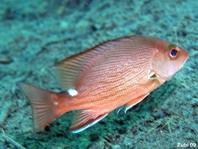Lutjanidae -Snappers-: (14, 31, 190, 134)
